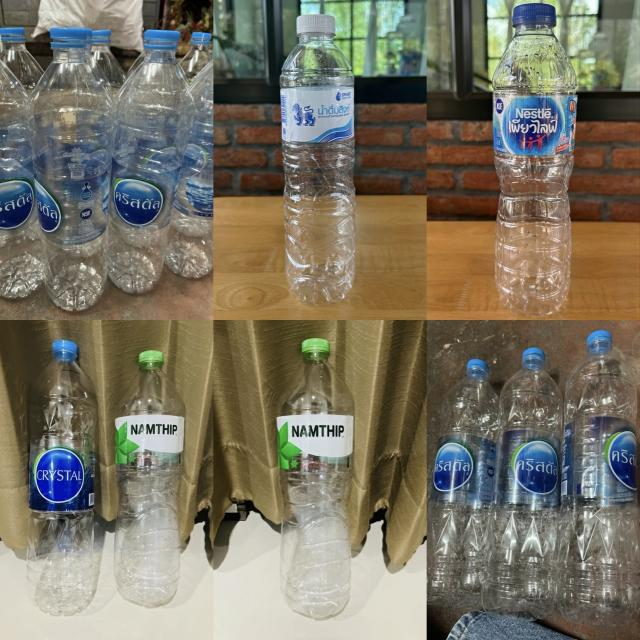plastik: (492, 4, 576, 316), (556, 330, 640, 628), (29, 28, 114, 311), (109, 30, 194, 294), (481, 348, 562, 620), (276, 339, 354, 618), (280, 15, 355, 304), (28, 340, 98, 615), (115, 350, 185, 607), (428, 359, 499, 607), (165, 33, 214, 278), (0, 60, 44, 299)
